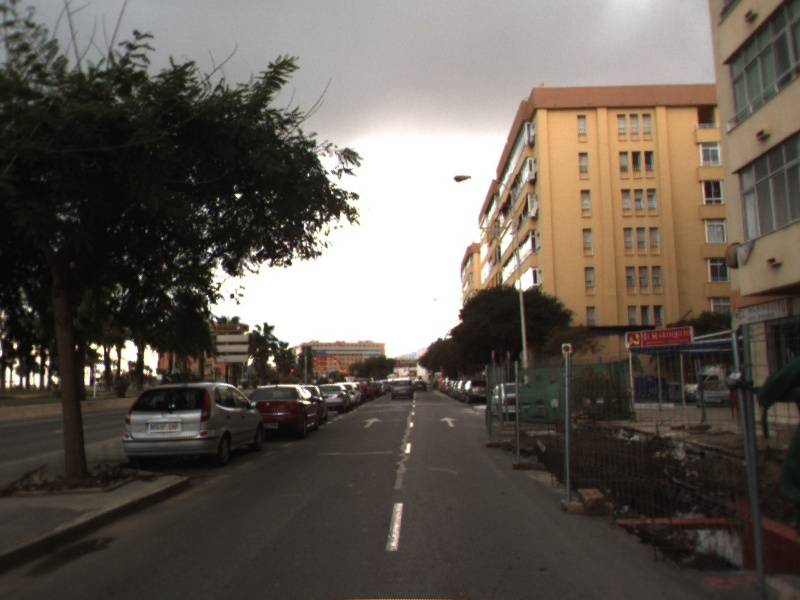STRAIGHT: (361, 416, 384, 430), (438, 415, 459, 429)
